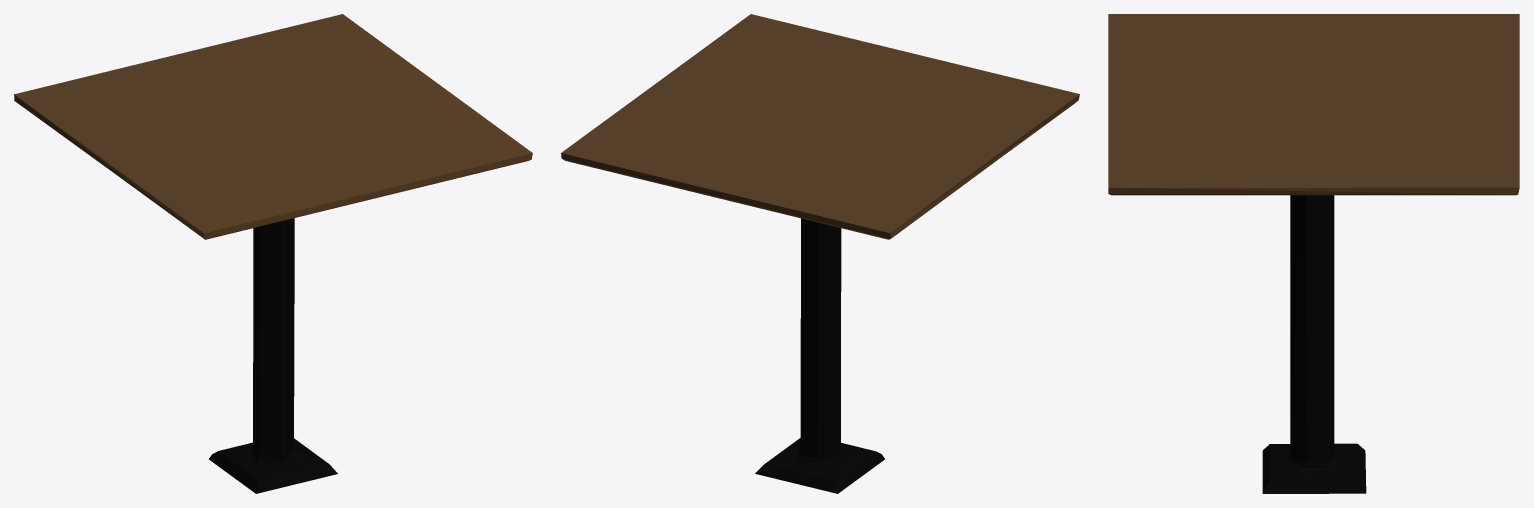
File: Round Table.glb
3 views of the same model, side by side, from view 1: azimuth 30°, elevation 25°; view 2: azimuth 150°, elevation 25°; view 3: azimuth 270°, elevation 25° (orthographic). The views are drawn at different scales.
Visible parts, largest first — view 1: id0; view 2: id0; view 3: id0.
Boxes of the visible parts, x1,y1,x2,y2 form: id0: [14, 14, 532, 493]; id0: [561, 14, 1079, 493]; id0: [1108, 14, 1519, 493].
Size of the model in its own units: 0.7796 by 0.7761 by 0.7795.
